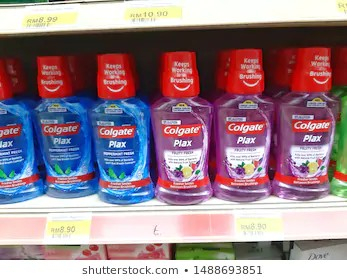coke-glass-bottle: (1, 15, 347, 259)
colgate-Plax: (275, 46, 341, 201), (214, 49, 274, 196), (152, 47, 207, 205), (38, 55, 96, 196), (95, 54, 148, 205)
